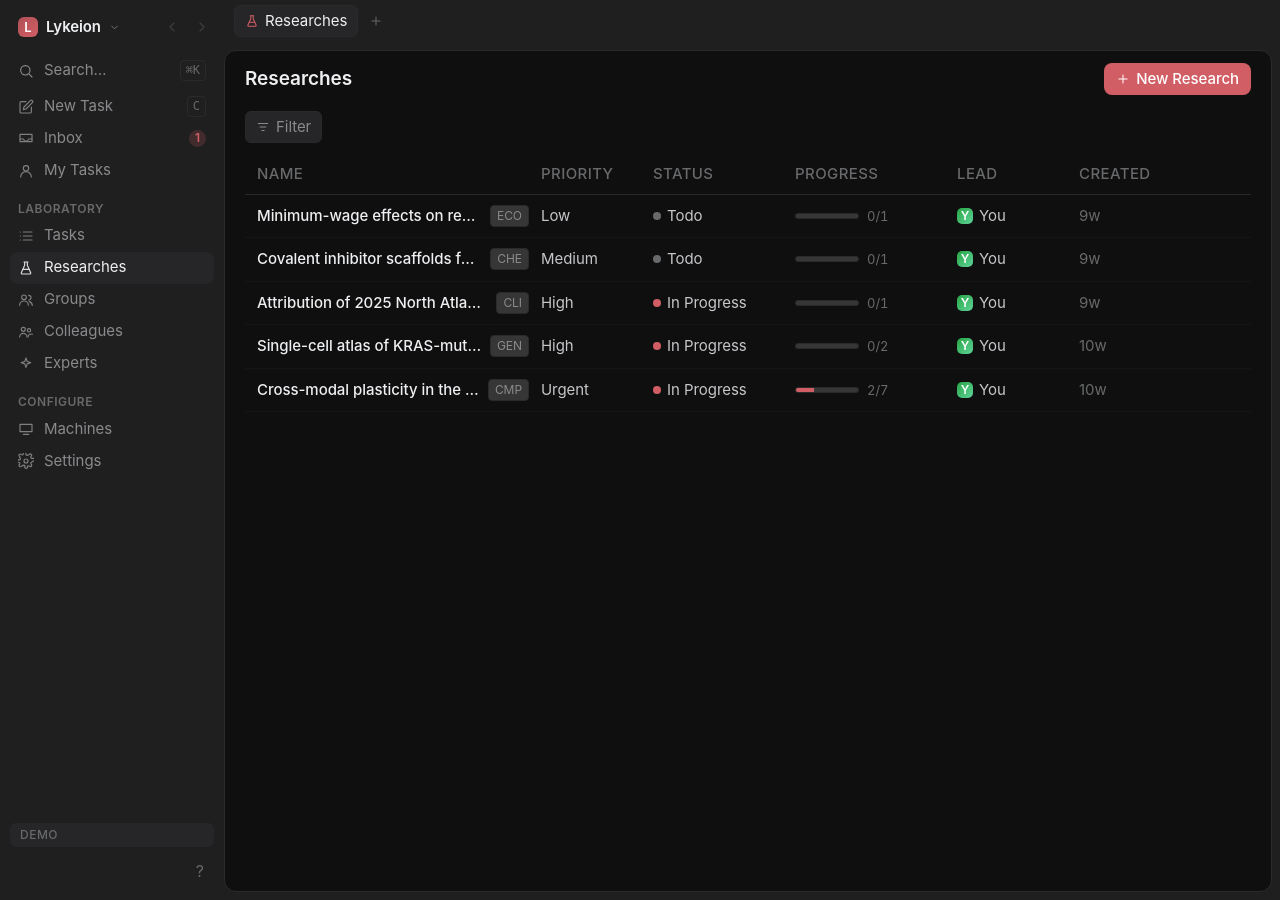
Test: the Rail 'New Task' button opens the create-task modal
expect the text "Cross-modal plasticity in the brain" is shown: met, box [257,378,480,401]
Click the button "New Task C" at (112, 106), box [10,90,214,122]
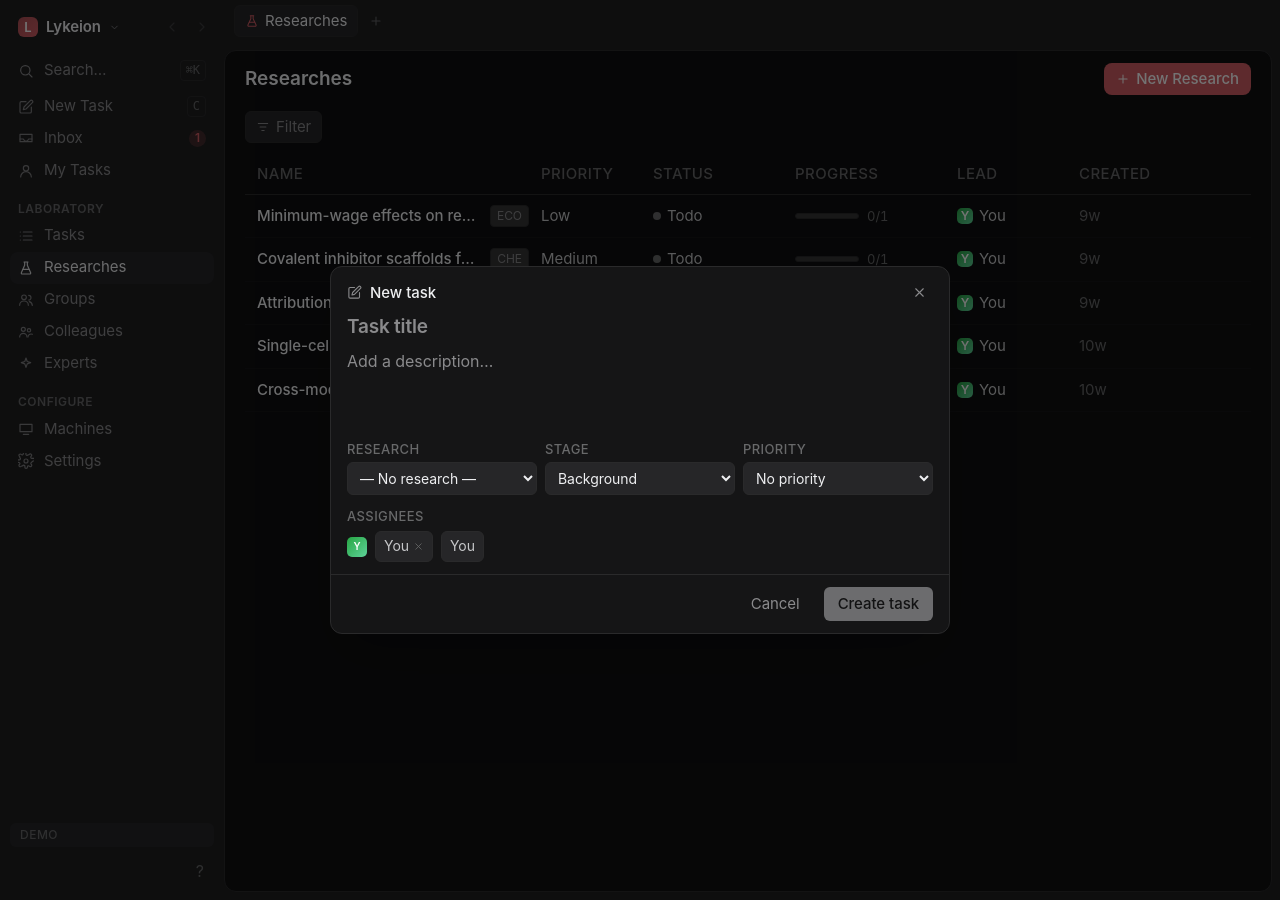
expect the dialog "Create task" is shown: met, box [330,266,950,634]
Press Escape
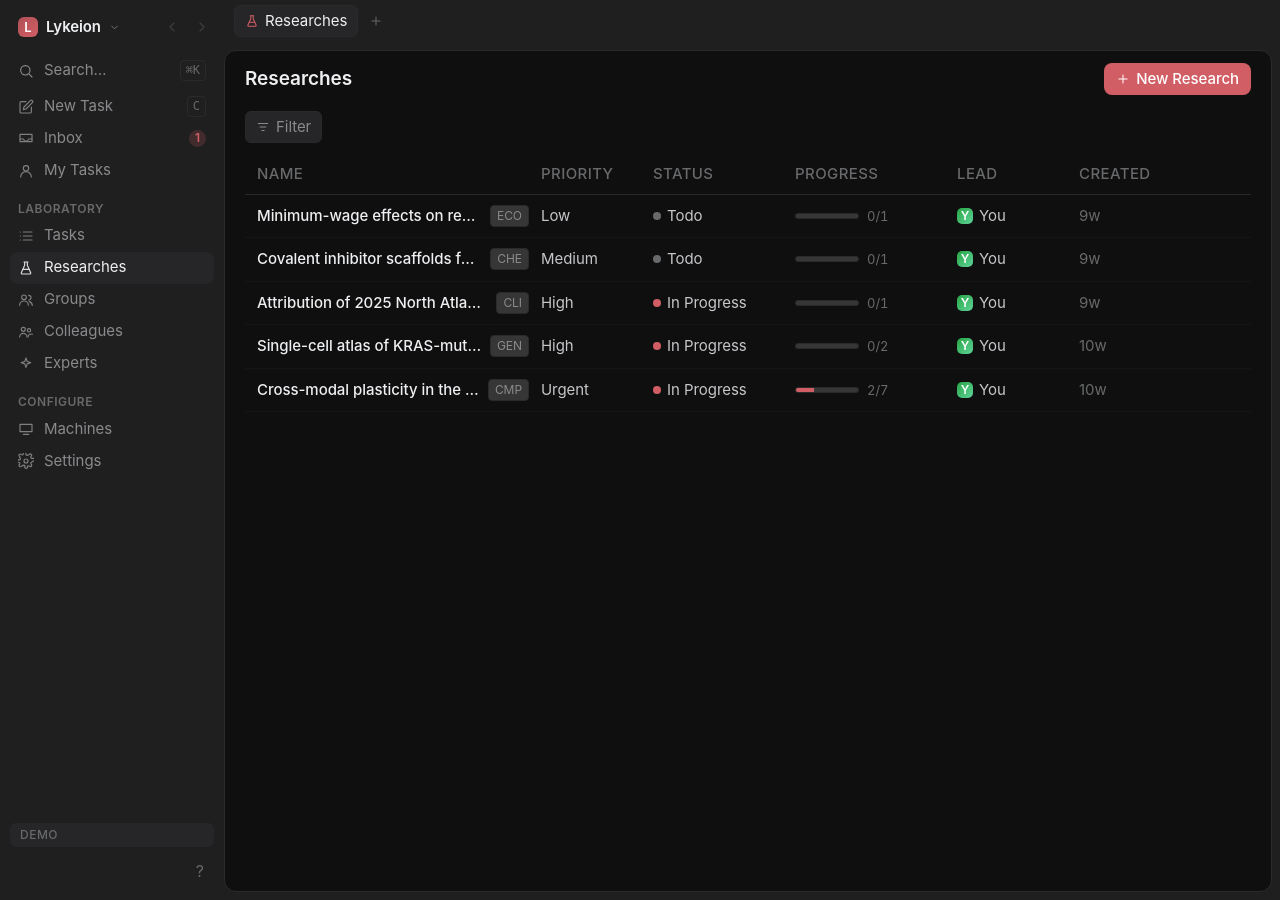
expect the button "Create task" is gone: met
